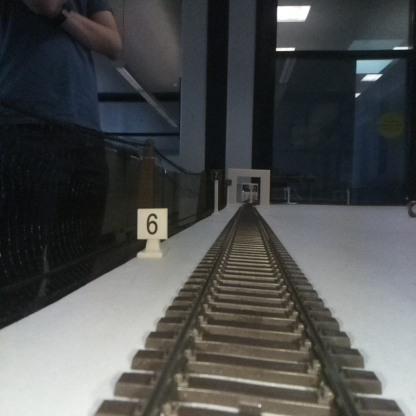black-info-7: (212, 168, 220, 215)
white-stop-6: (137, 208, 167, 256)
